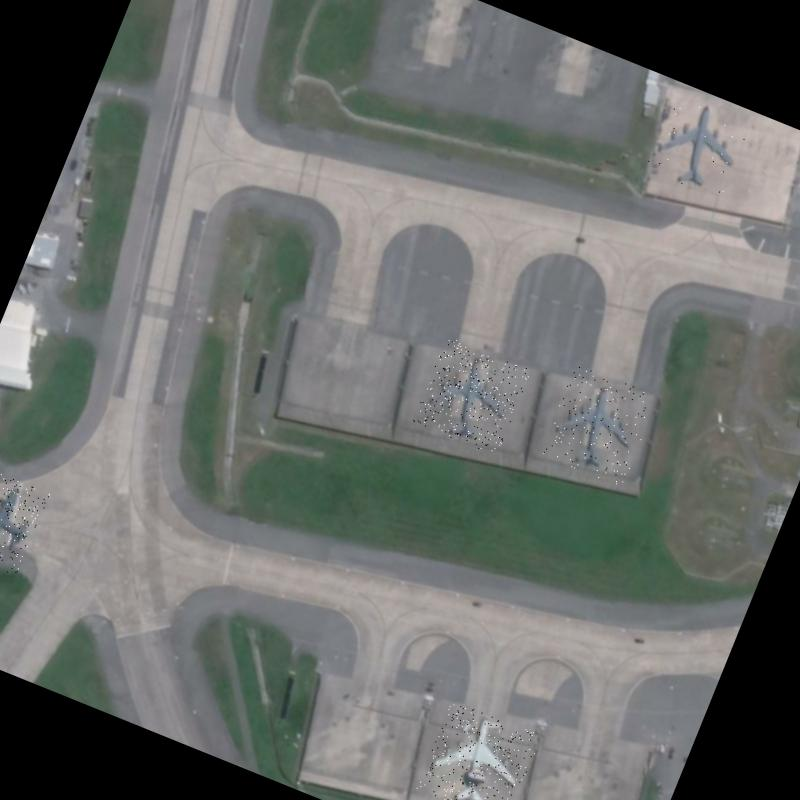A14: (539, 363, 658, 487), (412, 336, 530, 456), (640, 86, 754, 204)
A2: (0, 468, 49, 576)
A7: (415, 699, 541, 800)
